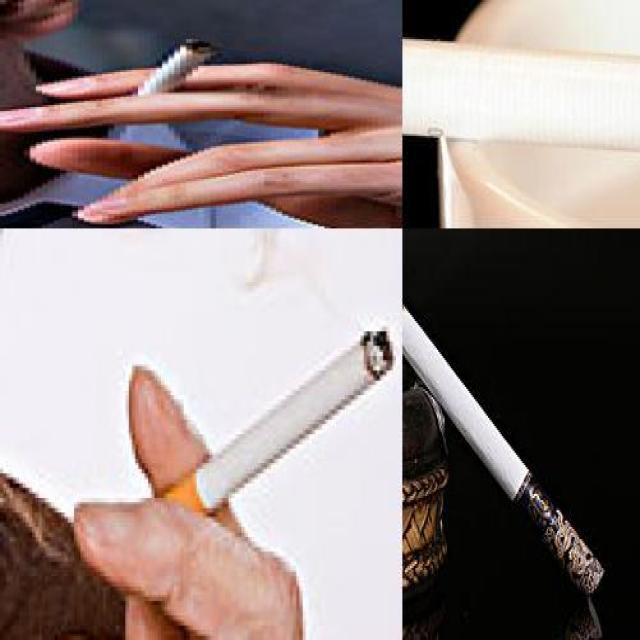smoking: (402, 296, 606, 601), (148, 326, 390, 518), (402, 22, 639, 176), (141, 37, 219, 95)
